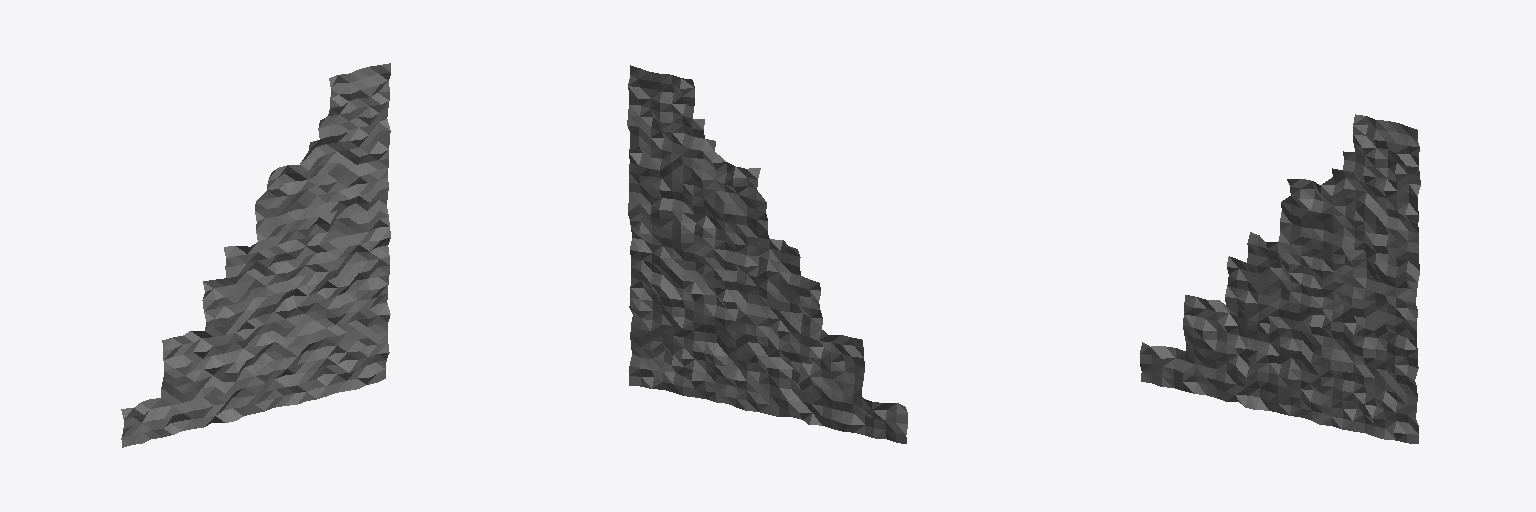
File: water_plane(fined).obj
3 renders of one model, left to right at view 1: azimuth 30°, elevation 25°; view 2: azimuth 150°, elevation 25°; view 3: azimuth 330°, elevation 25°, orthographic.
Parts seen in each view (by area): view 1: uploads_files_[number redacted]_POOL13:Mesh_displacement1 pasted__pasted__; view 2: uploads_files_[number redacted]_POOL13:Mesh_displacement1 pasted__pasted__; view 3: uploads_files_[number redacted]_POOL13:Mesh_displacement1 pasted__pasted__.
Part boxes in pixels (bbox=[...]): uploads_files_[number redacted]_POOL13:Mesh_displacement1 pasted__pasted__: bbox=[121, 63, 390, 447]; uploads_files_[number redacted]_POOL13:Mesh_displacement1 pasted__pasted__: bbox=[627, 65, 907, 443]; uploads_files_[number redacted]_POOL13:Mesh_displacement1 pasted__pasted__: bbox=[1140, 114, 1420, 443].
Bounding box in the file's own units: 5.55 × 6.17 × 0.3402.